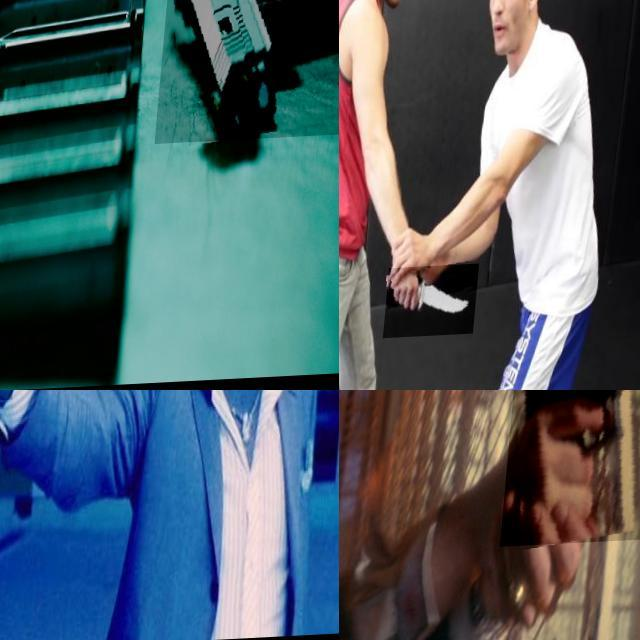-: (392, 268, 486, 342)
gun-knife-thesis - v11 Yolov5 augmented: (162, 0, 339, 147), (507, 390, 640, 550), (0, 390, 68, 536)
